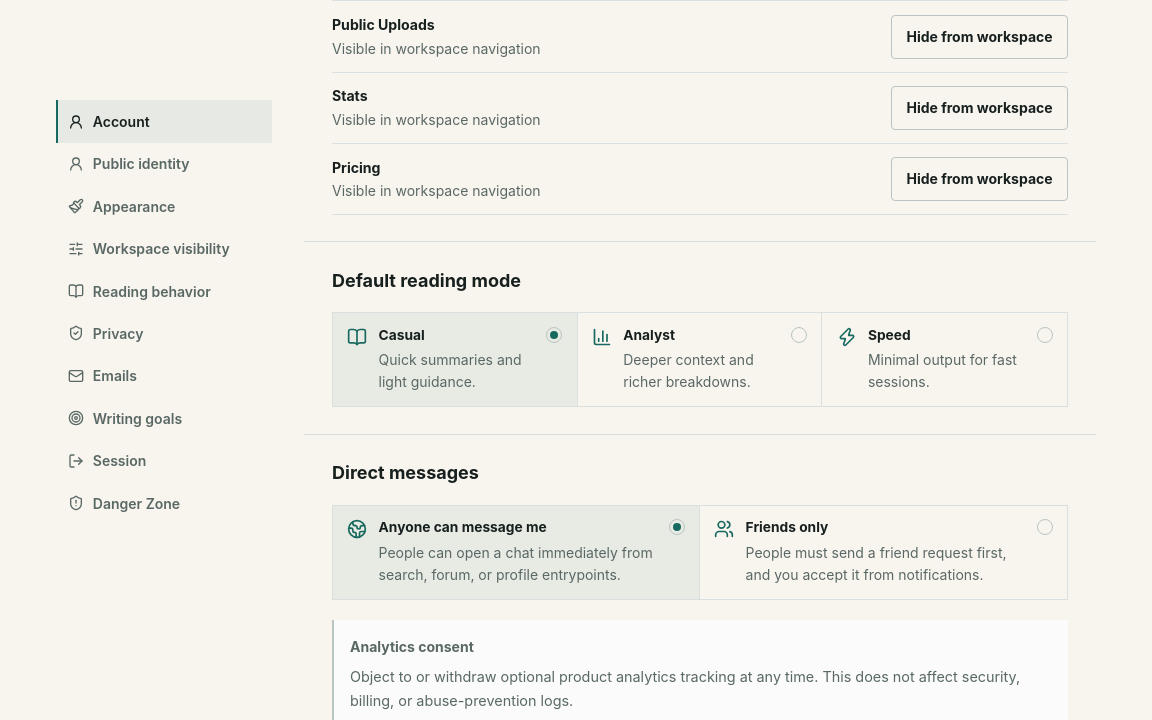
Test: SettingsPage billing actions › retains the confirmed reading mode when the update fails
The width and height of the screenshot is (1152, 720).
(page scrolled)
Click the button "Speed Minimal output for fast sessions." at (945, 360), box [822,313,1067,408]
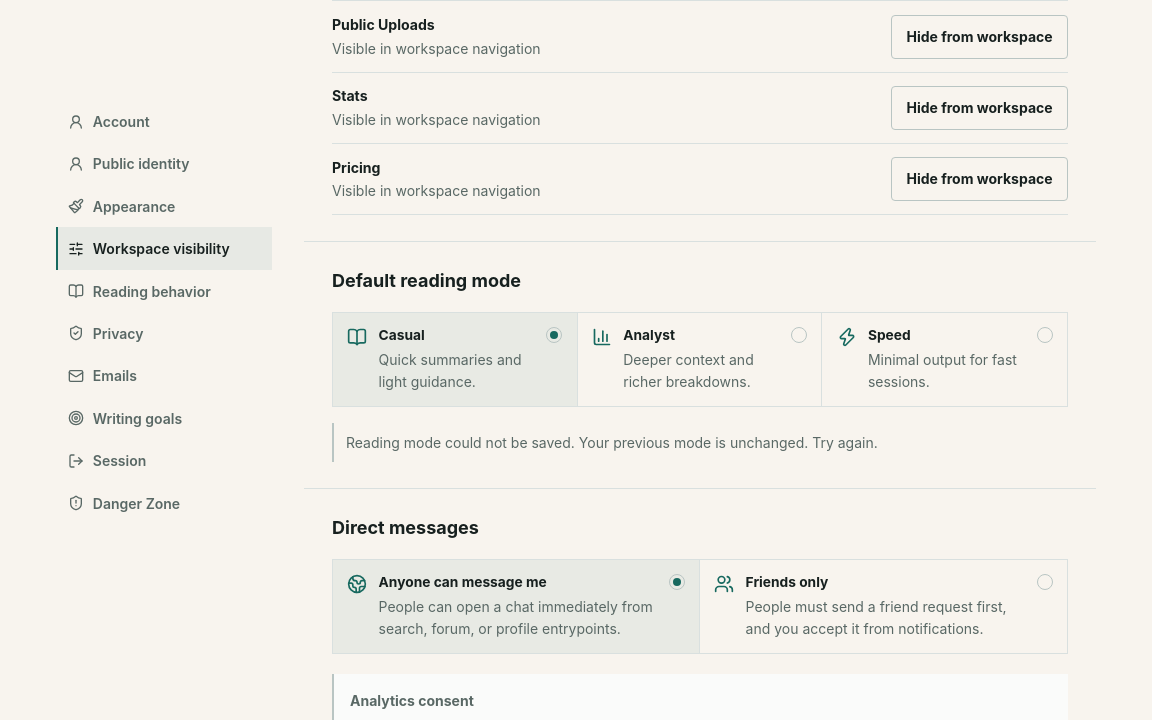
Check: the text "Reading mode could not be saved" is shown, box [346,434,878,451]
